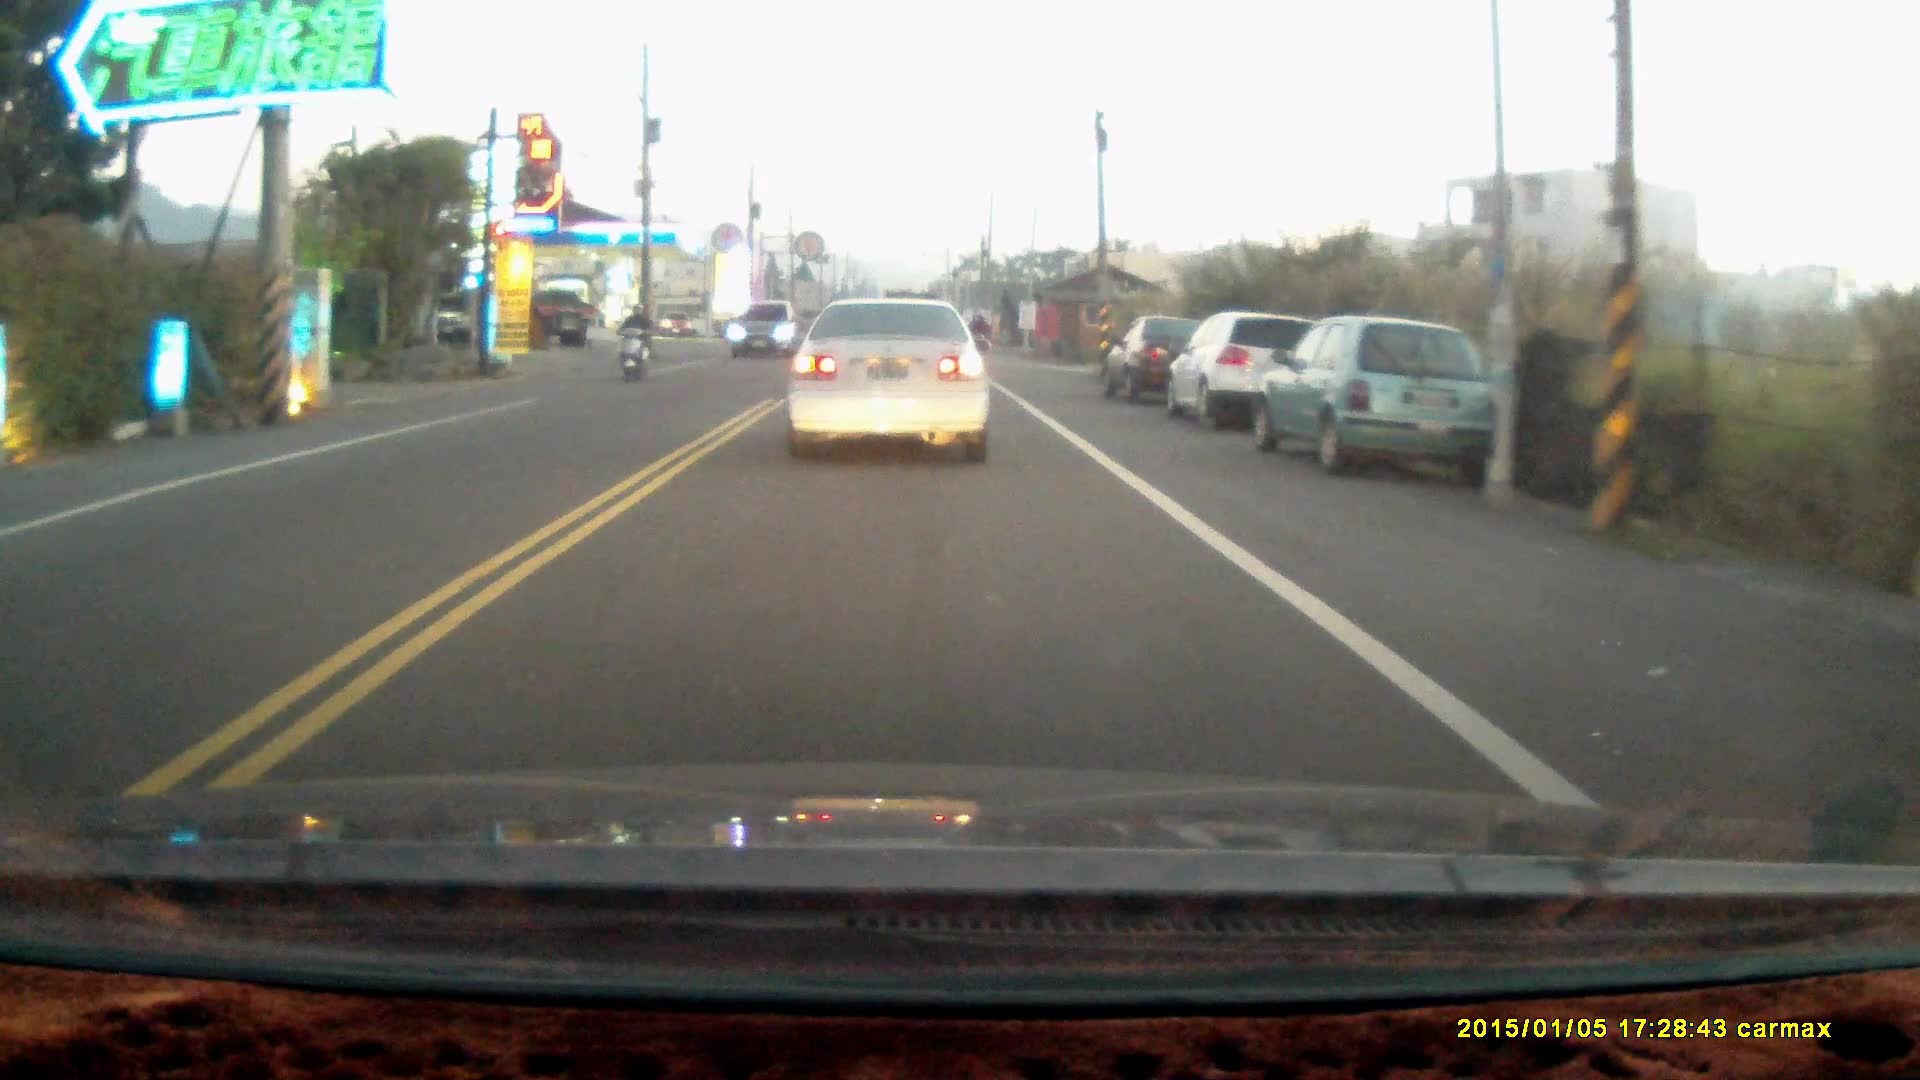rider: (615, 302, 651, 380)
vehicle: (1247, 315, 1497, 477), (787, 293, 998, 466), (1171, 312, 1325, 431), (1107, 315, 1204, 403), (732, 303, 802, 361)
